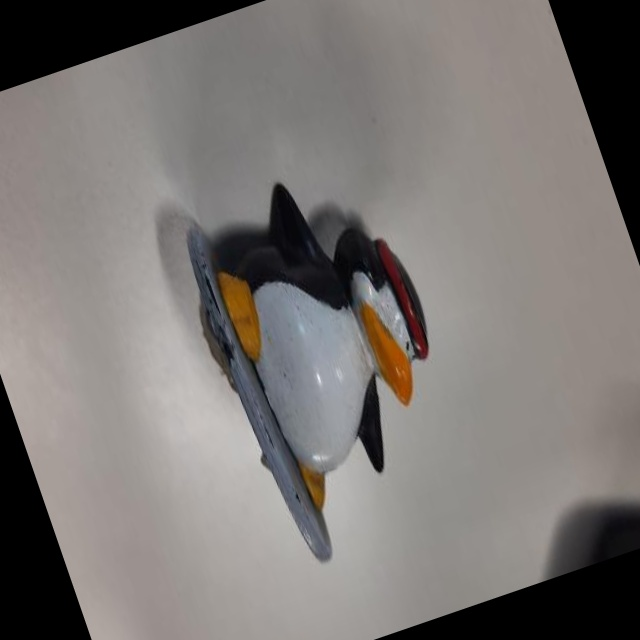Penguin: (153, 140, 504, 593)
